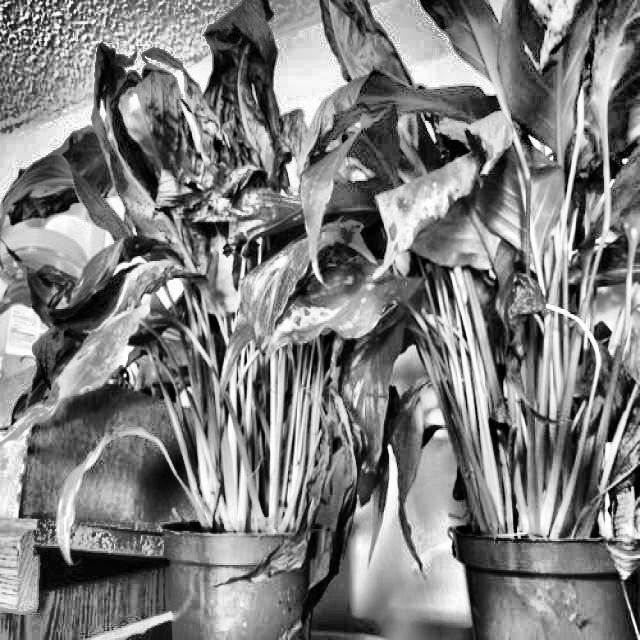plants: (15, 0, 372, 639), (371, 0, 639, 639), (109, 0, 284, 231), (380, 151, 500, 287), (304, 372, 364, 606)
